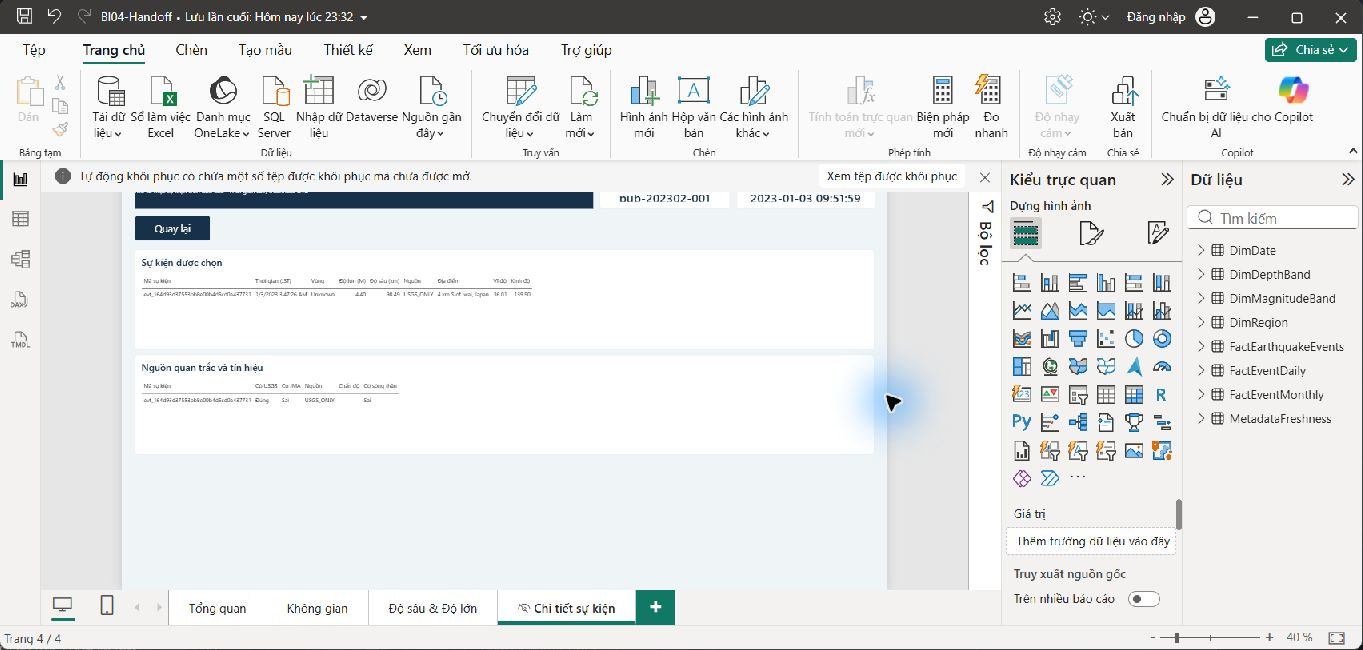

This screenshot's page, from the dashboard's own definition file:
{"tool":"powerbi","page":{"name":"Chi tiết sự kiện","canvas":[1920,1080],"ordinal":3},"visuals":[{"type":"textbox","box":[32,24,1150,98],"z":1000},{"type":"card","title":"Publication Gold","fields":{"Values":["MetadataFreshness.Gold Publication"]},"box":[1200,24,326,98],"z":2000},{"type":"card","title":"Sự kiện mới nhất (UTC)","fields":{"Values":["MetadataFreshness.Data Freshness (UTC)"]},"box":[1542,24,346,98],"z":3000},{"type":"actionButton","box":[32,141,190,64],"z":4000},{"type":"tableEx","title":"Sự kiện được chọn","fields":{"Values":["FactEarthquakeEvents.canonical_event_id","FactEarthquakeEvents.event_time_jst","FactEarthquakeEvents.region_name","FactEarthquakeEvents.magnitude","FactEarthquakeEvents.depth_km","FactEarthquakeEvents.source_coverage_code","FactEarthquakeEvents.place_name","FactEarthquakeEvents.latitude","FactEarthquakeEvents.longitude"]},"box":[32,225,1856,250],"z":5000},{"type":"tableEx","title":"Nguồn quan trắc và tín hiệu","fields":{"Values":["FactEarthquakeEvents.canonical_event_id","FactEarthquakeEvents.has_usgs","FactEarthquakeEvents.has_jma","FactEarthquakeEvents.source_coverage_code","FactEarthquakeEvents.max_intensity_code","FactEarthquakeEvents.tsunami_flag"]},"box":[32,490,1856,250],"z":6000}]}

Visuals, with their boxes on the page's 1920x1080 design canvas (x1, y1, x2, y2). These are canvas units, not pixel positions in the 1363x650 screenshot, which may show the page scaled, cropped or inside an application window:
textbox: bbox=(32, 24, 1182, 122)
"Publication Gold" card: bbox=(1200, 24, 1526, 122)
"Sự kiện mới nhất (UTC)" card: bbox=(1542, 24, 1888, 122)
actionButton: bbox=(32, 141, 222, 205)
"Sự kiện được chọn" tableEx: bbox=(32, 225, 1888, 475)
"Nguồn quan trắc và tín hiệu" tableEx: bbox=(32, 490, 1888, 740)
